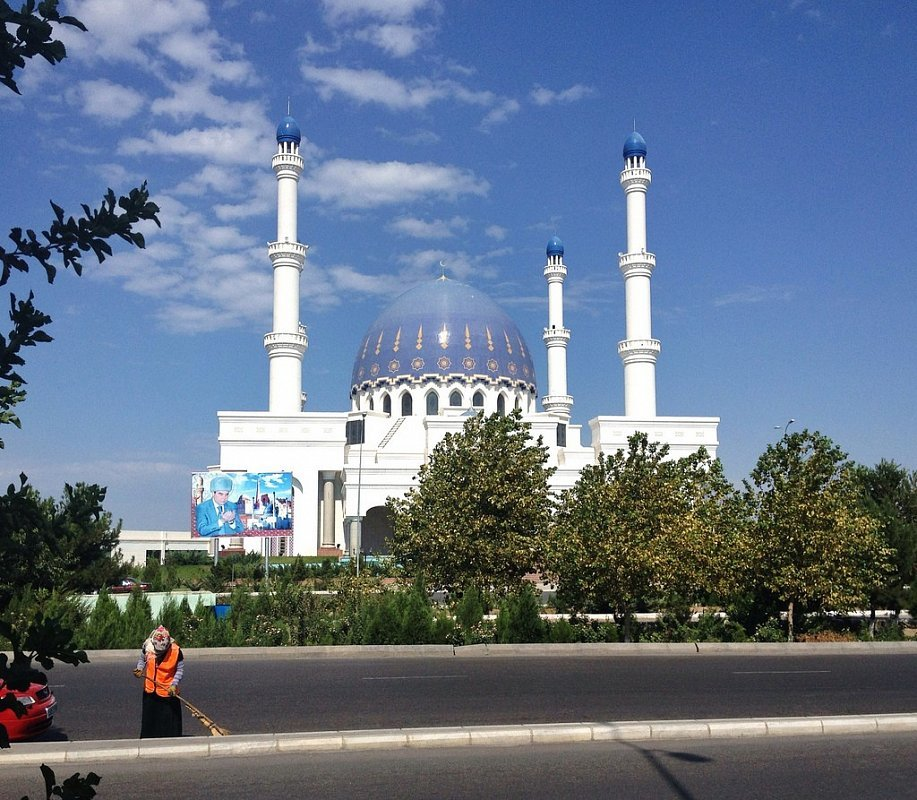Mosque: (188, 91, 735, 586)
